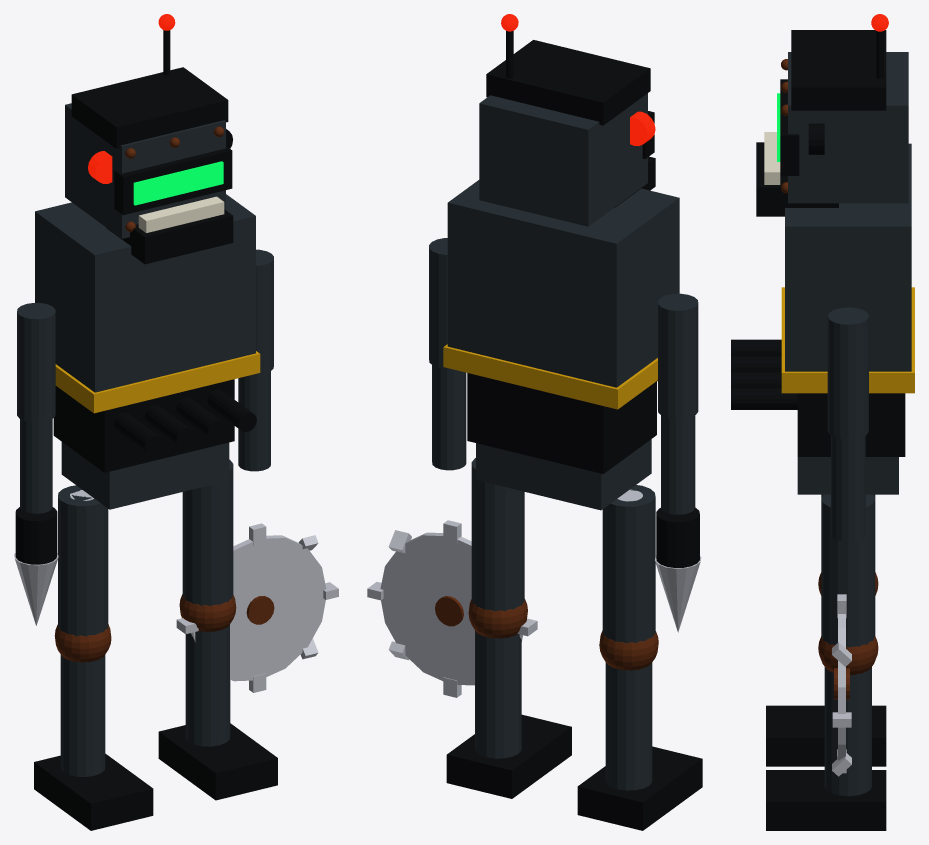
File: rivets.glb
The picture shows the model from 3 angles, left to right: view 1: azimuth 30°, elevation 25°; view 2: azimuth 150°, elevation 25°; view 3: azimuth 270°, elevation 25°; orthographic projection. The views are drawn at different scales.
Visible parts, largest first — view 1: Riv_Chest, Riv_SawDisc, Riv_Brow, Riv_Skull, Riv_Belly, Riv_ThighPiston-1, Riv_PelvisPlate, Riv_ThighPiston1, Riv_Foot1, Riv_Foot-1, Riv_Shin-1, Riv_Shin1 (+19 smaller); view 2: Riv_Chest, Riv_Skull, Riv_Belly, Riv_SawDisc, Riv_Brow, Riv_ThighPiston-1, Riv_ThighPiston1, Riv_PelvisPlate, Riv_Shin-1, Riv_Foot1, Riv_Foot-1, Riv_Shin1 (+11 smaller); view 3: Riv_Chest, Riv_Skull, Riv_Brow, Riv_ThighPiston1, Riv_Foot1, Riv_ArmUpper, Riv_Foot-1, Riv_Shin1, Riv_Belly, Riv_ArmFore, Riv_HazardStrip, Riv_PelvisPlate (+11 smaller).
Boxes of the visible parts, bbox=[...] form: Riv_Chest: bbox=[35, 194, 255, 392]; Riv_SawDisc: bbox=[191, 535, 326, 681]; Riv_Brow: bbox=[71, 67, 228, 148]; Riv_Skull: bbox=[65, 103, 225, 238]; Riv_Belly: bbox=[53, 379, 234, 472]; Riv_ThighPiston-1: bbox=[58, 485, 108, 636]; Riv_PelvisPlate: bbox=[61, 442, 229, 509]; Riv_ThighPiston1: bbox=[182, 459, 233, 605]; Riv_Foot1: bbox=[158, 723, 277, 800]; Riv_Foot-1: bbox=[34, 753, 153, 830]; Riv_Shin-1: bbox=[60, 654, 105, 776]; Riv_Shin1: bbox=[185, 624, 230, 746]; Riv_Chest: bbox=[447, 180, 679, 387]; Riv_Skull: bbox=[479, 93, 647, 226]; Riv_Belly: bbox=[467, 373, 656, 473]; Riv_SawDisc: bbox=[380, 532, 522, 685]; Riv_Brow: bbox=[486, 40, 650, 125]; Riv_ThighPiston-1: bbox=[602, 485, 655, 643]; Riv_ThighPiston1: bbox=[471, 458, 524, 611]; Riv_PelvisPlate: bbox=[476, 439, 651, 510]; Riv_Shin-1: bbox=[605, 662, 652, 790]; Riv_Foot1: bbox=[446, 714, 571, 798]; Riv_Foot-1: bbox=[577, 746, 702, 830]; Riv_Shin1: bbox=[475, 630, 521, 758]; Riv_Chest: bbox=[785, 143, 911, 371]; Riv_Skull: bbox=[788, 52, 908, 203]; Riv_Brow: bbox=[791, 30, 886, 110]; Riv_ThighPiston1: bbox=[821, 494, 875, 647]; Riv_Foot1: bbox=[766, 770, 886, 830]; Riv_ArmUpper: bbox=[827, 307, 868, 439]; Riv_Foot-1: bbox=[766, 705, 886, 766]; Riv_Shin1: bbox=[824, 667, 871, 796]; Riv_Belly: bbox=[797, 393, 905, 456]; Riv_ArmFore: bbox=[831, 435, 865, 541]; Riv_HazardStrip: bbox=[781, 287, 914, 393]; Riv_PelvisPlate: bbox=[797, 457, 898, 494].
Bounding box in the file's own units: 1.21 × 2.74 × 0.58.
